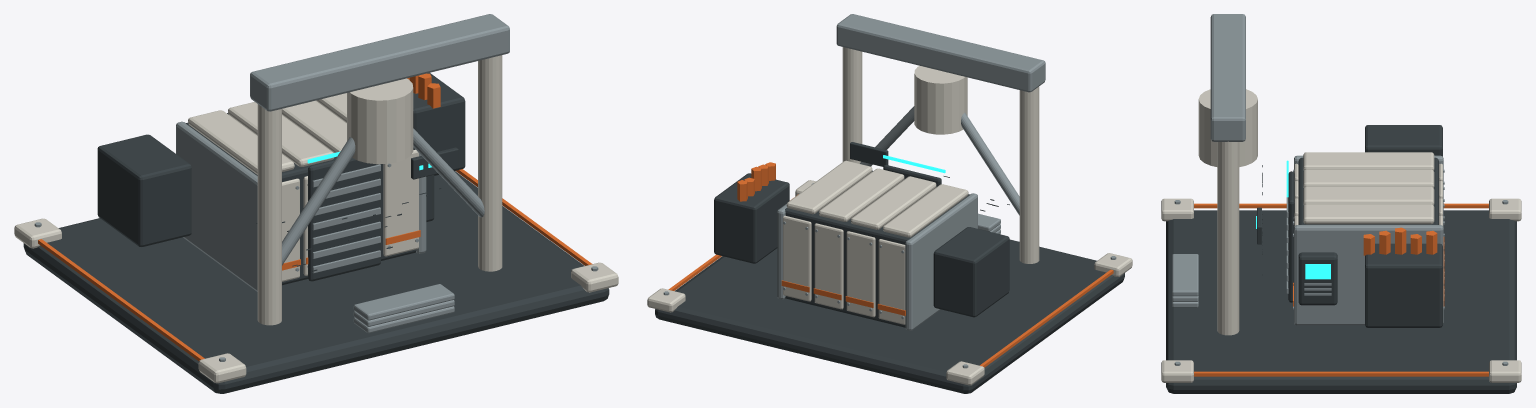
File: SM_UraniumMine_Body.001.fbx
3 renders of one model, left to right at view 1: azimuth 30°, elevation 25°; view 2: azimuth 150°, elevation 25°; view 3: azimuth 270°, elevation 25°, orthographic. The views are drawn at different scales.
Visible parts, largest first — view 1: SM_UraniumMine_Body.001; view 2: SM_UraniumMine_Body.001; view 3: SM_UraniumMine_Body.001.
Part boxes in pixels (left/top/right/bottom): SM_UraniumMine_Body.001: left=14, top=14, right=618, bottom=393; SM_UraniumMine_Body.001: left=647, top=14, right=1132, bottom=393; SM_UraniumMine_Body.001: left=1161, top=14, right=1521, bottom=393.
Bounding box in the file's own units: 532 × 462 × 347.
